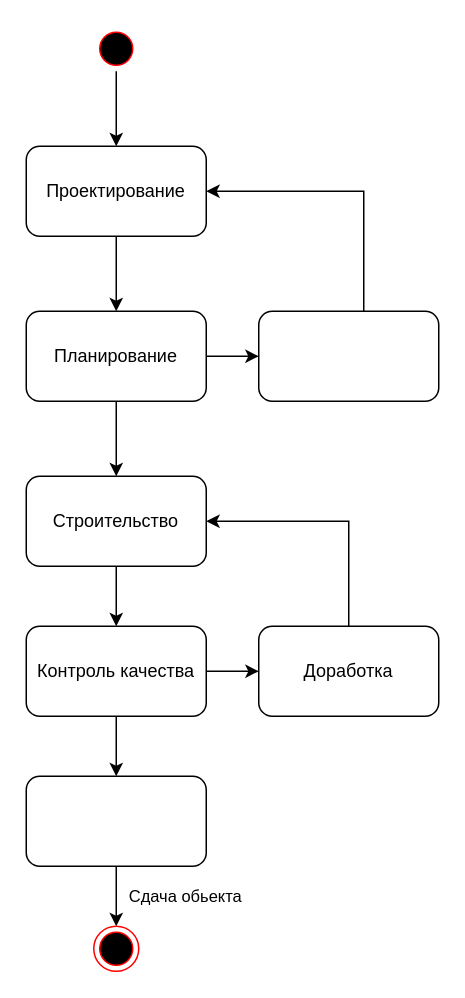
This 465x998 diagram has some shape labels left out. Here are the shapes that lost their labels. From the top down, the centre of each, then its label:
pixel 348 355: Проистановлена
pixel 115 820: Сдача обьектов
